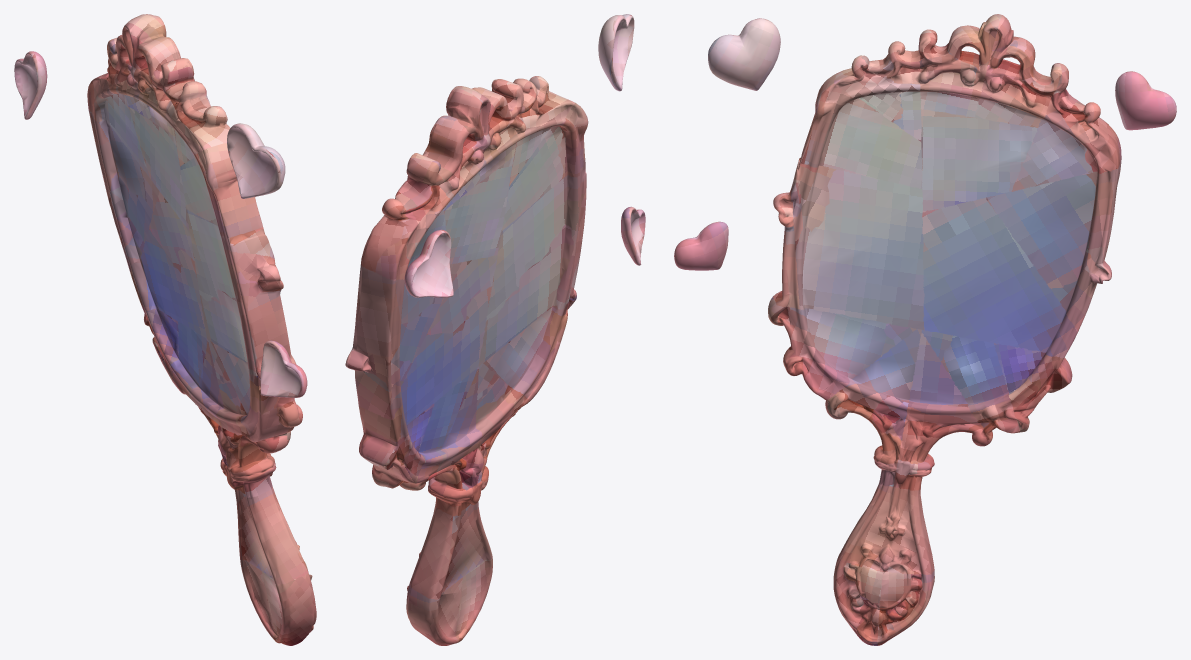
The model's file is prop_mirror.glb.
3 views of the same model, side by side, from view 1: azimuth 30°, elevation 25°; view 2: azimuth 150°, elevation 25°; view 3: azimuth 270°, elevation 25° (orthographic). The views are drawn at different scales.
Parts seen in each view (by area): view 1: tripo_node_4360e2e1-0dd3-4ecd-9a3b-422988c2861a; view 2: tripo_node_4360e2e1-0dd3-4ecd-9a3b-422988c2861a; view 3: tripo_node_4360e2e1-0dd3-4ecd-9a3b-422988c2861a.
Part boxes in pixels (bbox=[...]): tripo_node_4360e2e1-0dd3-4ecd-9a3b-422988c2861a: bbox=[14, 14, 316, 645]; tripo_node_4360e2e1-0dd3-4ecd-9a3b-422988c2861a: bbox=[345, 14, 645, 645]; tripo_node_4360e2e1-0dd3-4ecd-9a3b-422988c2861a: bbox=[674, 14, 1176, 645].
Size of the model in its own units: 0.2653 by 0.9786 by 0.7581.
1 material, 1 textured.
